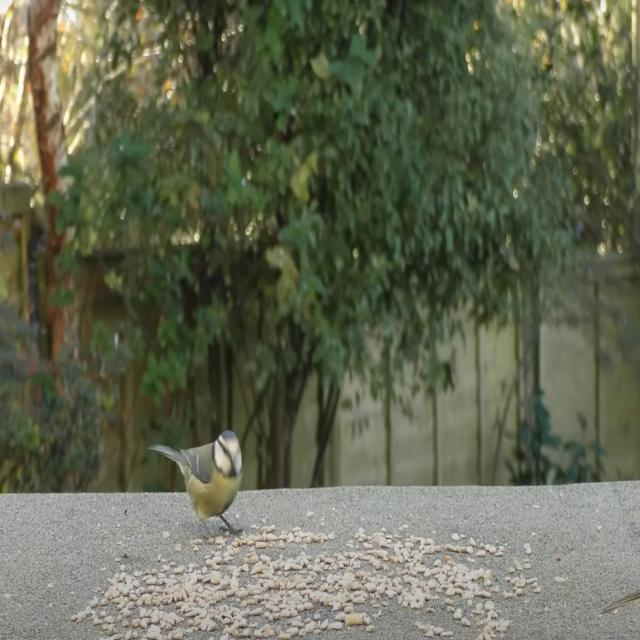beak: (228, 452, 239, 474)
bird: (151, 426, 247, 543)
